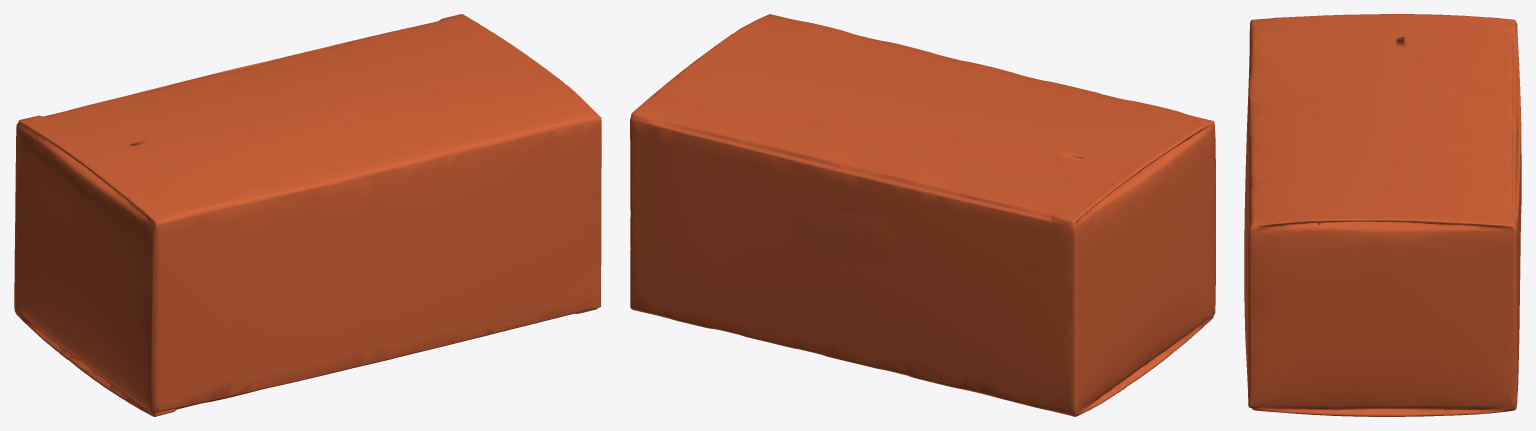
The picture shows the model from 3 angles, left to right: view 1: azimuth 30°, elevation 25°; view 2: azimuth 150°, elevation 25°; view 3: azimuth 270°, elevation 25°; orthographic projection. The views are drawn at different scales.
Size of the model in its own units: 0.1544 by 0.0689 by 0.0863.
